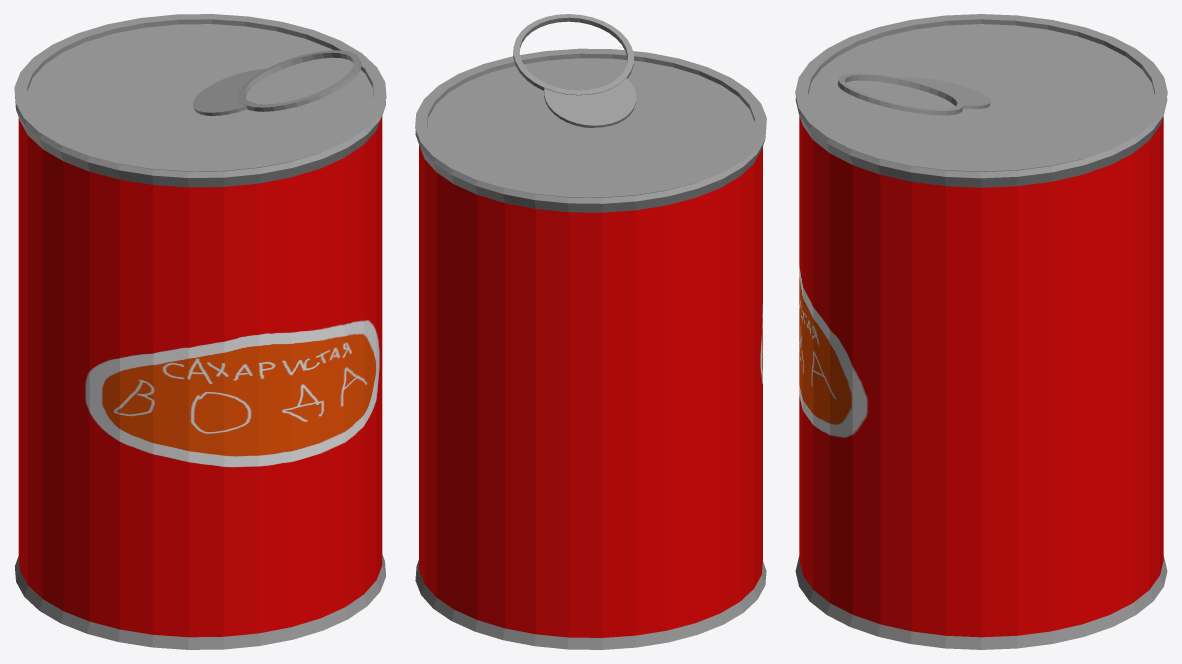
The model's file is Bottle_Level2.fbx.
The picture shows the model from 3 angles, left to right: view 1: azimuth 30°, elevation 25°; view 2: azimuth 150°, elevation 25°; view 3: azimuth 270°, elevation 25°; orthographic projection. The views are drawn at different scales.
Parts seen in each view (by area): view 1: Cylinder; view 2: Cylinder; view 3: Cylinder.
Part boxes in pixels (x1,y1,x2,y2): Cylinder: (14,14,386,649); Cylinder: (415,14,766,649); Cylinder: (795,14,1167,649).
Bounding box in the file's own units: 200 × 311 × 200.
2 materials, 1 textured.
